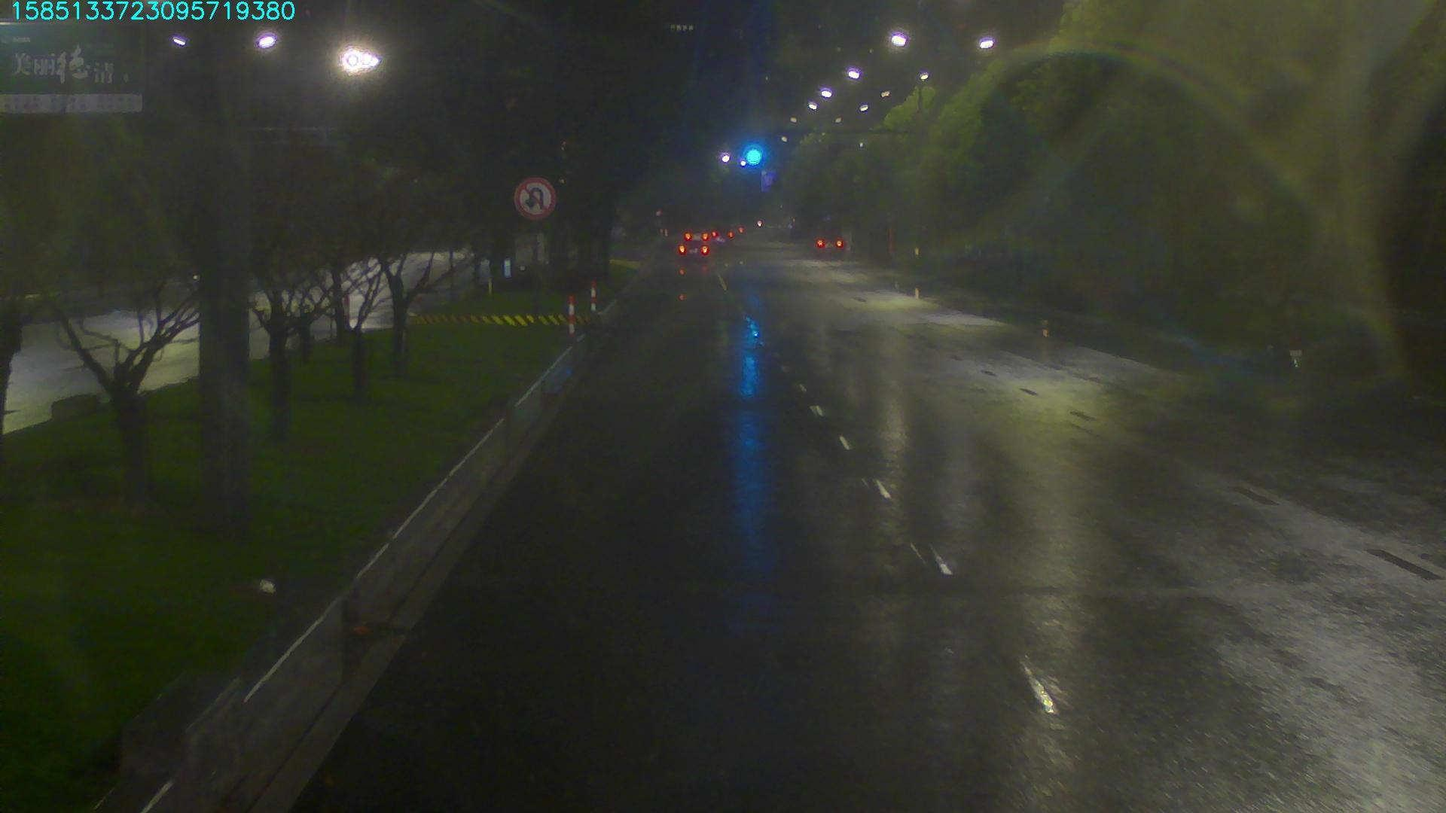green: (737, 138, 764, 172)
